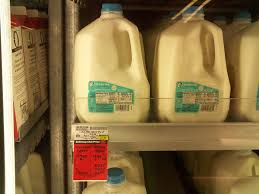milk: (74, 2, 150, 119), (157, 9, 235, 122)
